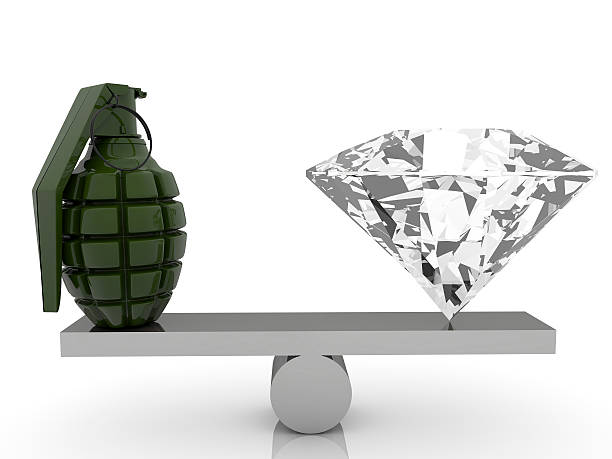e1: (32, 83, 188, 328)
